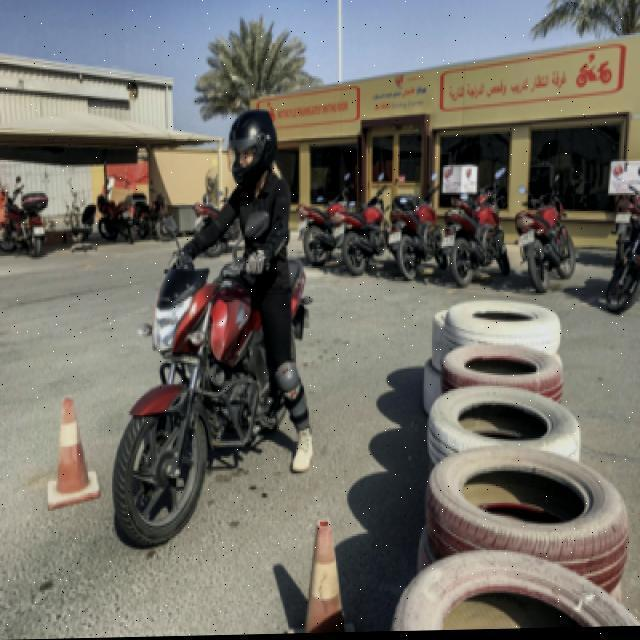Helmet: (218, 104, 283, 201)
